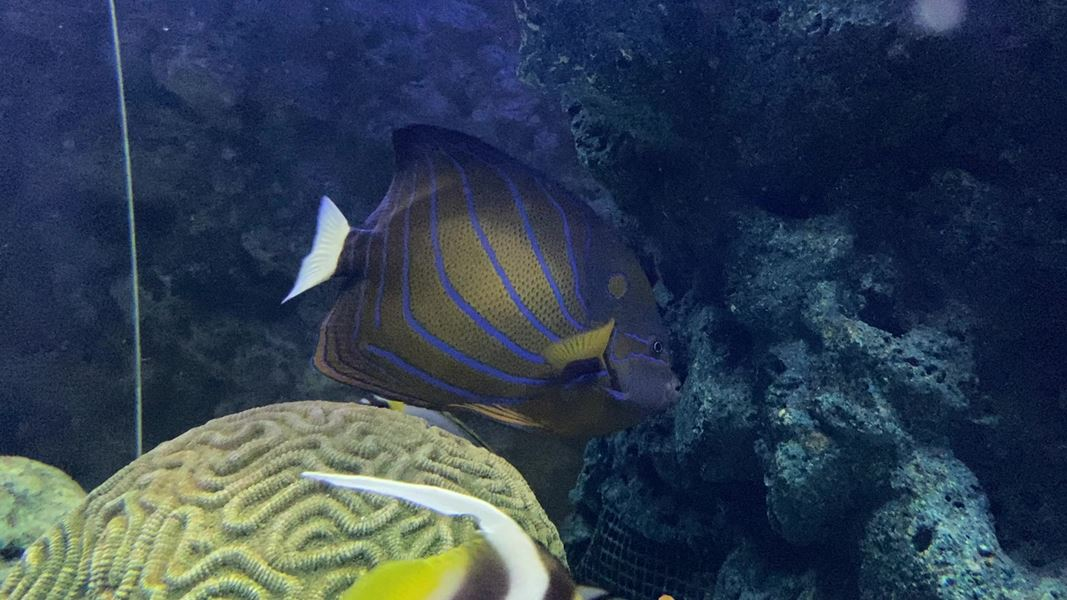Blue ring angelfish: (267, 117, 699, 461)
